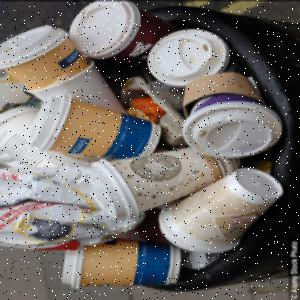Cup: (82, 148, 240, 220), (160, 168, 286, 254), (27, 94, 163, 160), (182, 93, 286, 159), (61, 238, 183, 291), (148, 30, 234, 88), (70, 2, 148, 60), (2, 25, 70, 91)
